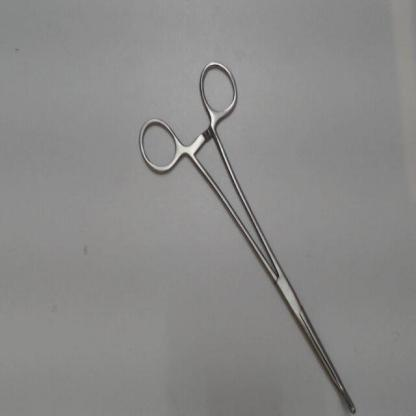Lahey Forceps: (135, 50, 367, 414)
